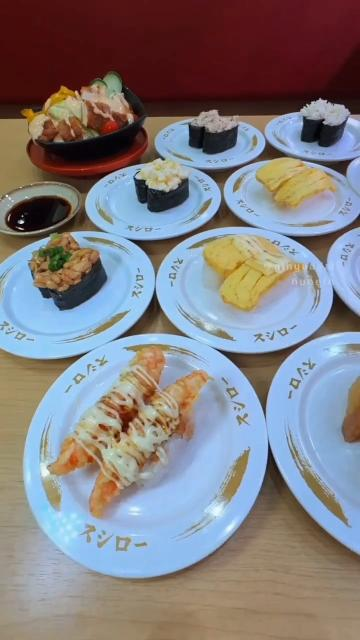janwhite: (34, 364, 271, 585), (165, 244, 330, 349), (0, 233, 151, 340), (290, 349, 349, 532), (93, 172, 220, 236), (161, 104, 262, 178), (272, 98, 360, 168), (224, 206, 360, 233), (336, 228, 360, 323)
